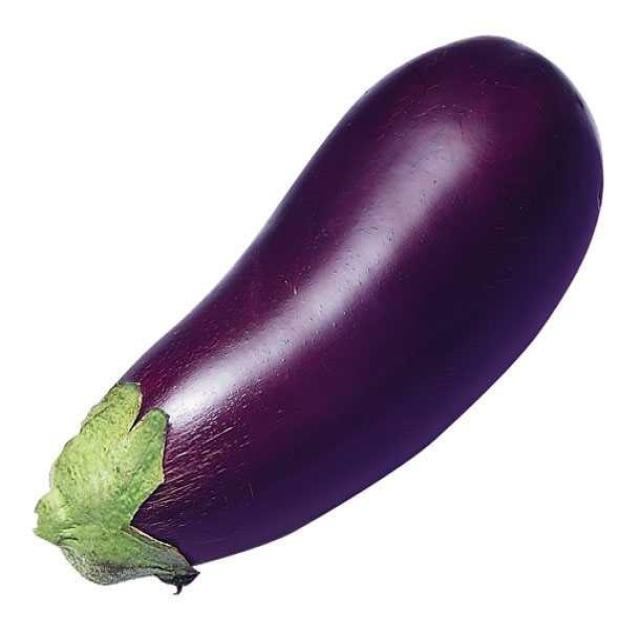Eggplant-r1Ob: (36, 38, 602, 588)
